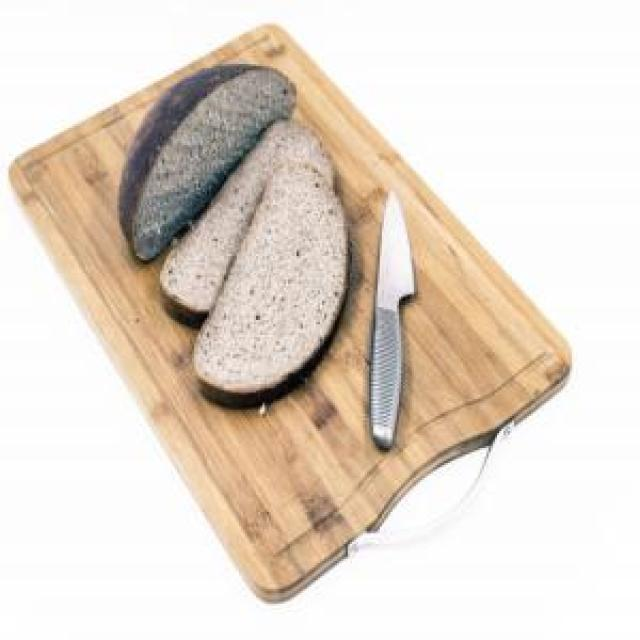knife: (367, 188, 418, 447)
